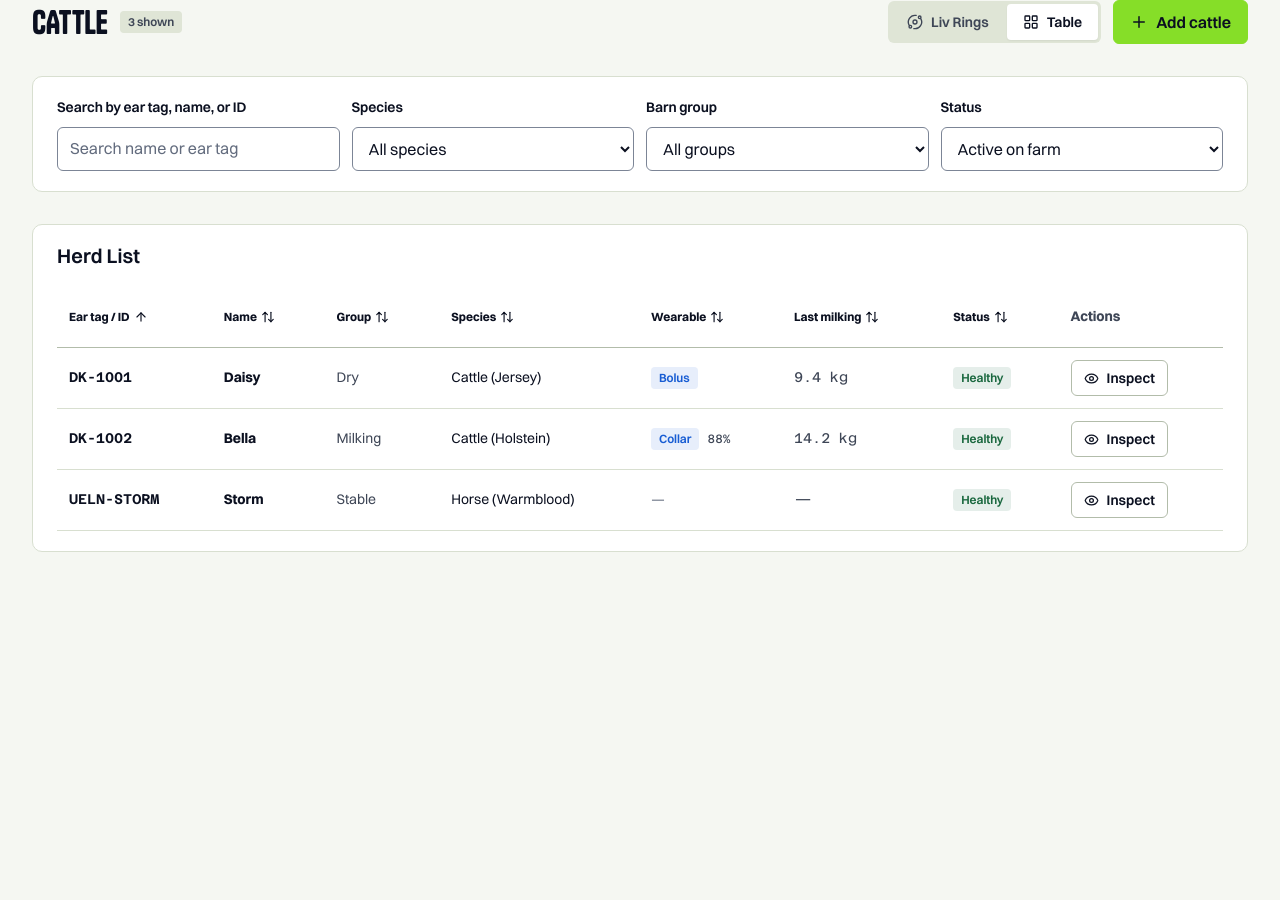
Test: Farm Data Screens: Herd register & Connections screen › sorts the herd register table, shows wearables read-only only when present, and drops the wearable column when none in the list have one
The width and height of the screenshot is (1280, 900).
Later steps or results of the test are not shown.
Expected: the button with test id "herd-sort-wearable" is shown, [643,299,732,335]
Click the button with test id "herd-sort-name". click: coordinates (249, 317)
box: [216,299,283,335]
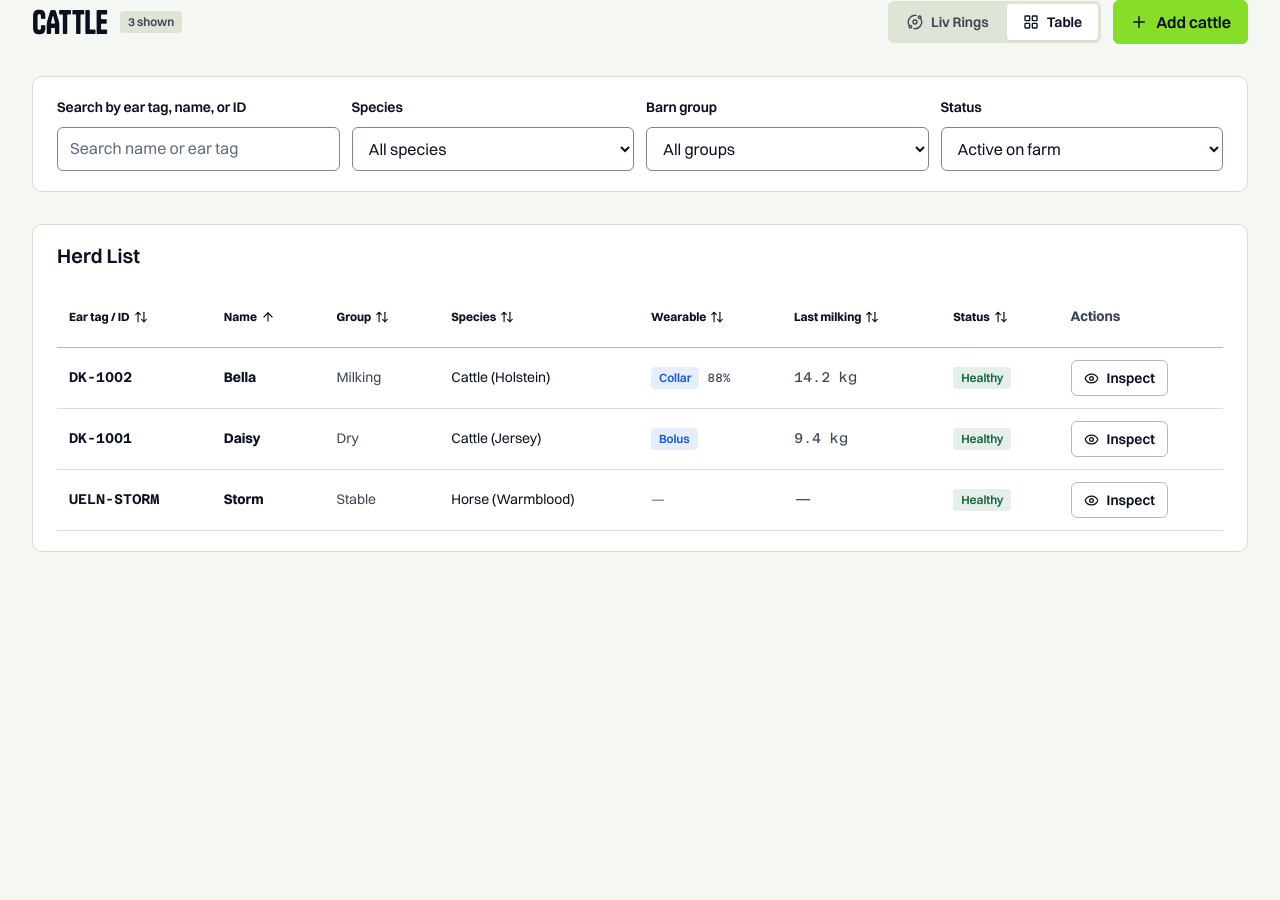
Expected: the row that starts with "DK-1002" shows "Bella", [224,368,256,386]
Expected: the row that starts with "DK-1001" shows "Daisy", [224,429,260,447]
Click the button with test id "herd-sort-name". click: coordinates (249, 317)
box: [216,299,283,335]
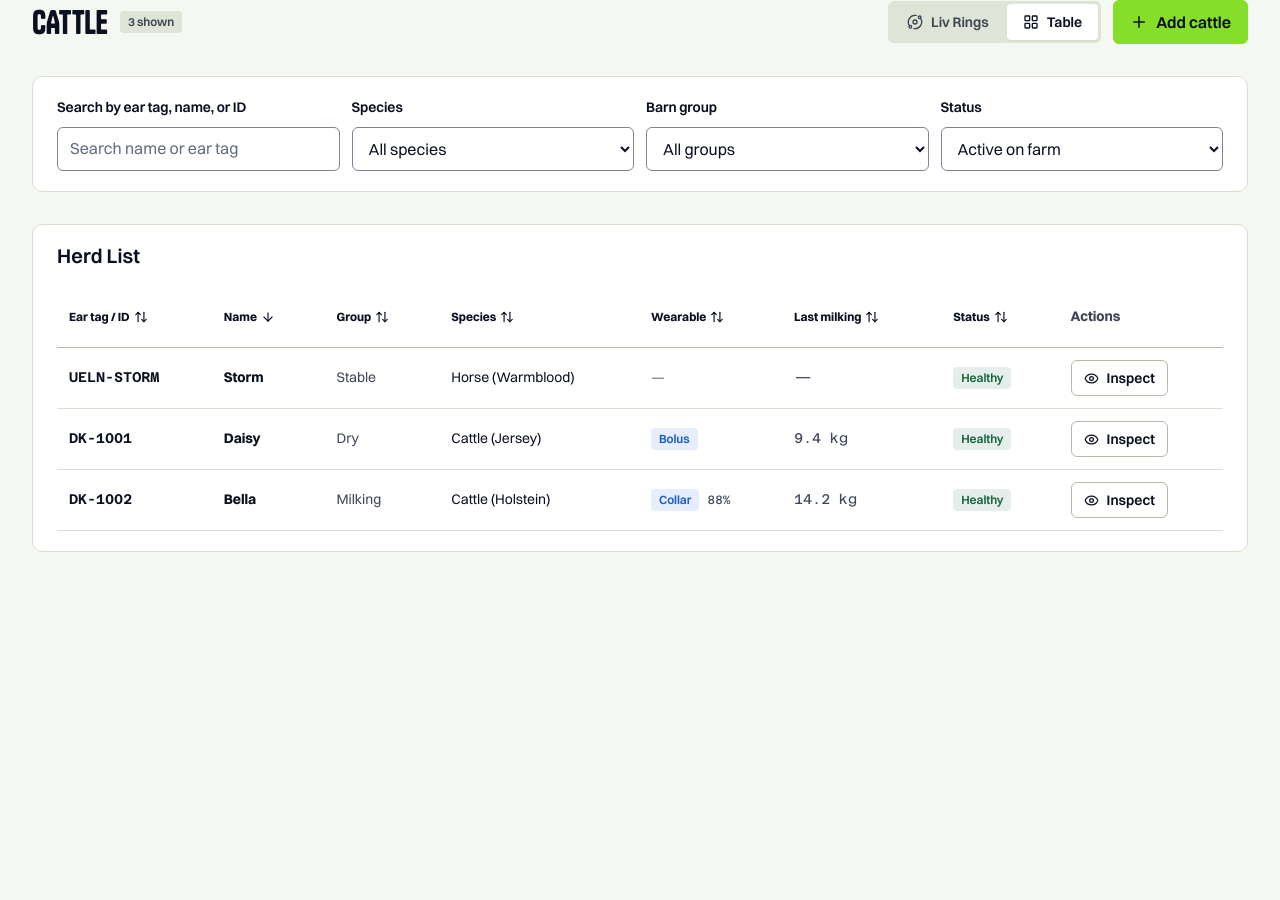
Expected: the row that starts with "UELN-STORM" is shown, [224,368,263,386]
Expected: the row that starts with "DK-1002" shows "Bella", [224,490,256,508]
Click the button with test id "herd-sort-lastMilking". click: coordinates (837, 317)
box: [786,299,888,335]
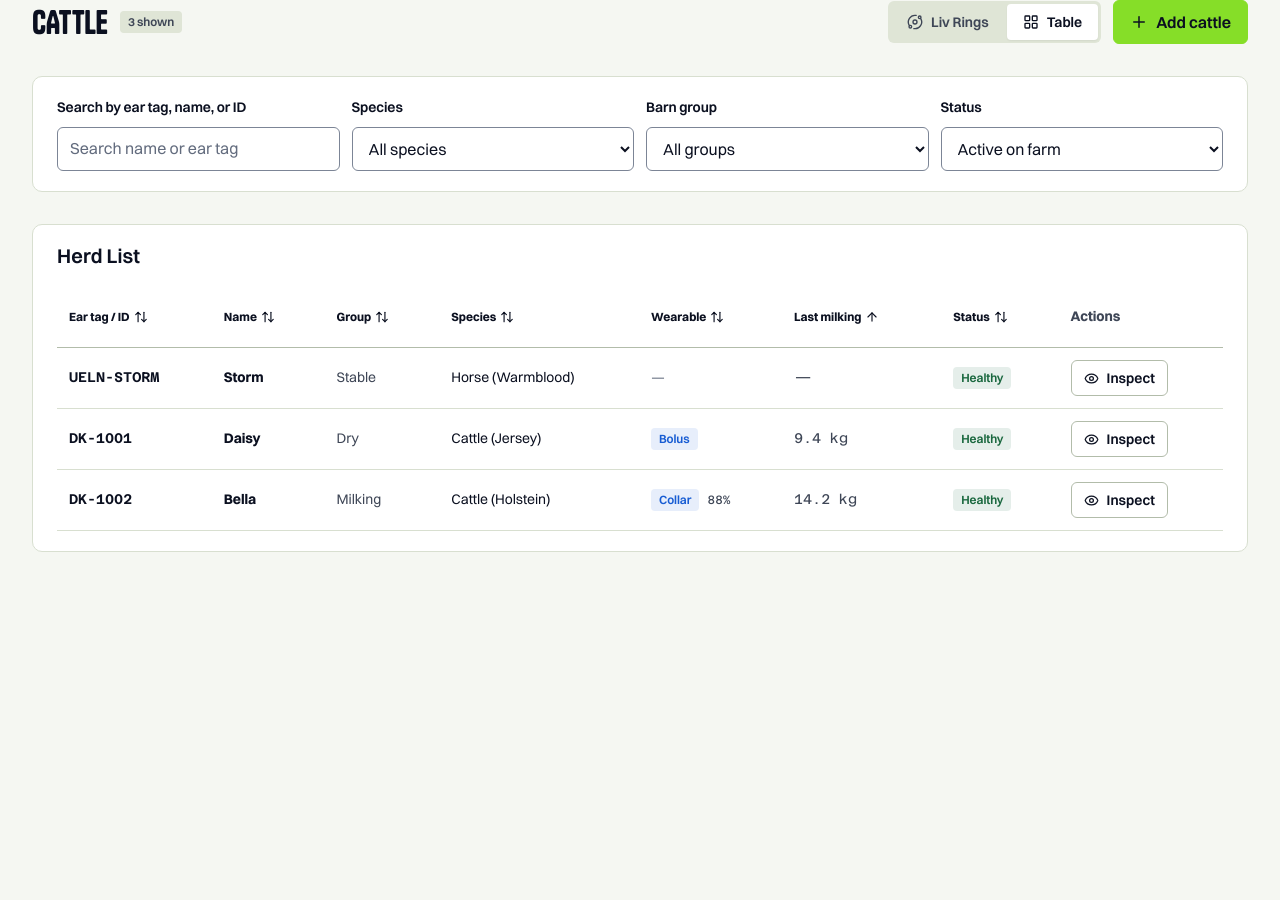
Click the button with test id "herd-sort-lastMilking". click: coordinates (837, 317)
box: [786,299,888,335]
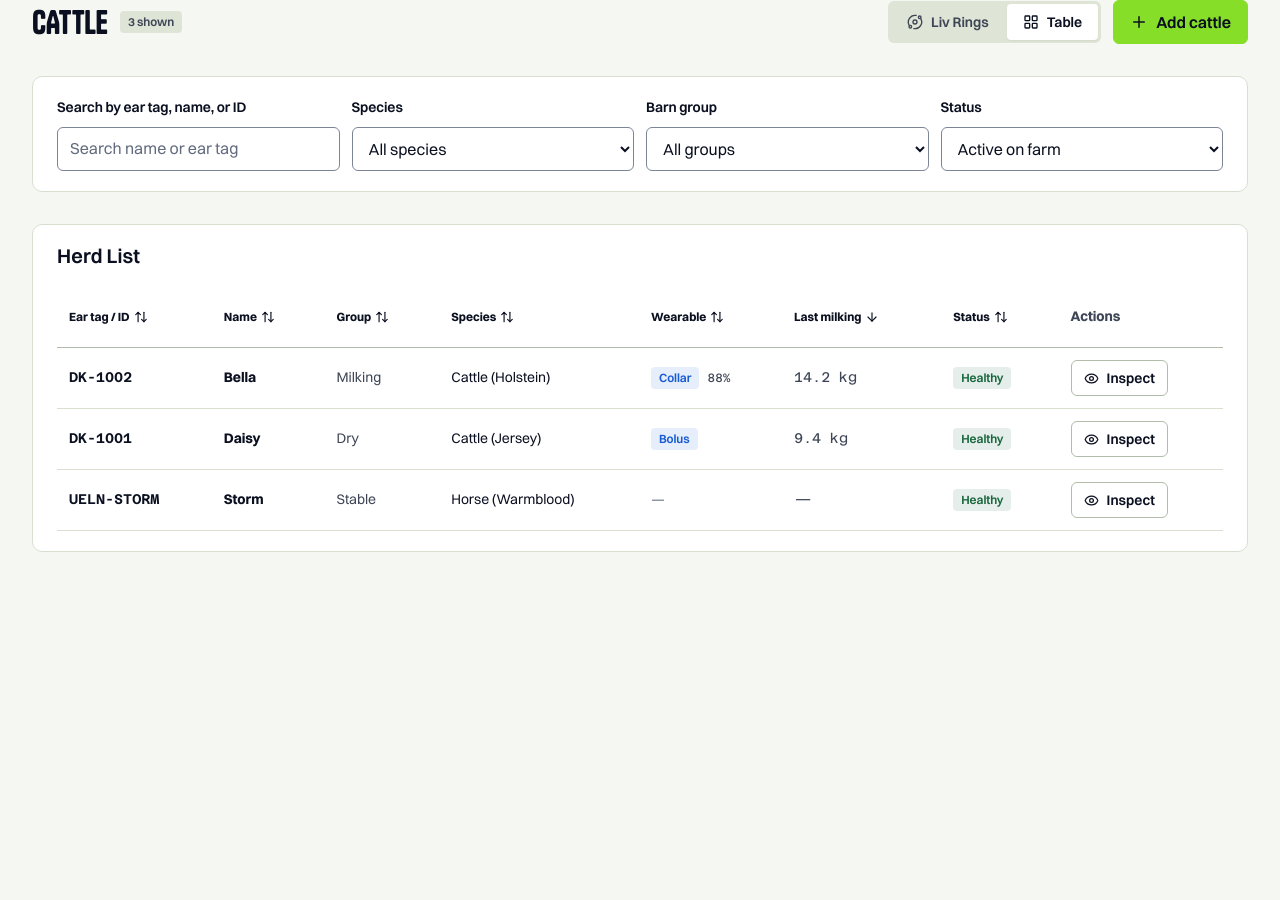
Expected: the row that starts with "DK-1002" shows "Bella", [224,368,256,386]
Expected: the row that starts with "DK-1002" shows "14.2 kg", [794,369,857,385]
Click the button with test id "herd-inspect-DK-1002". click: coordinates (1119, 378)
box: [1071,360,1168,396]
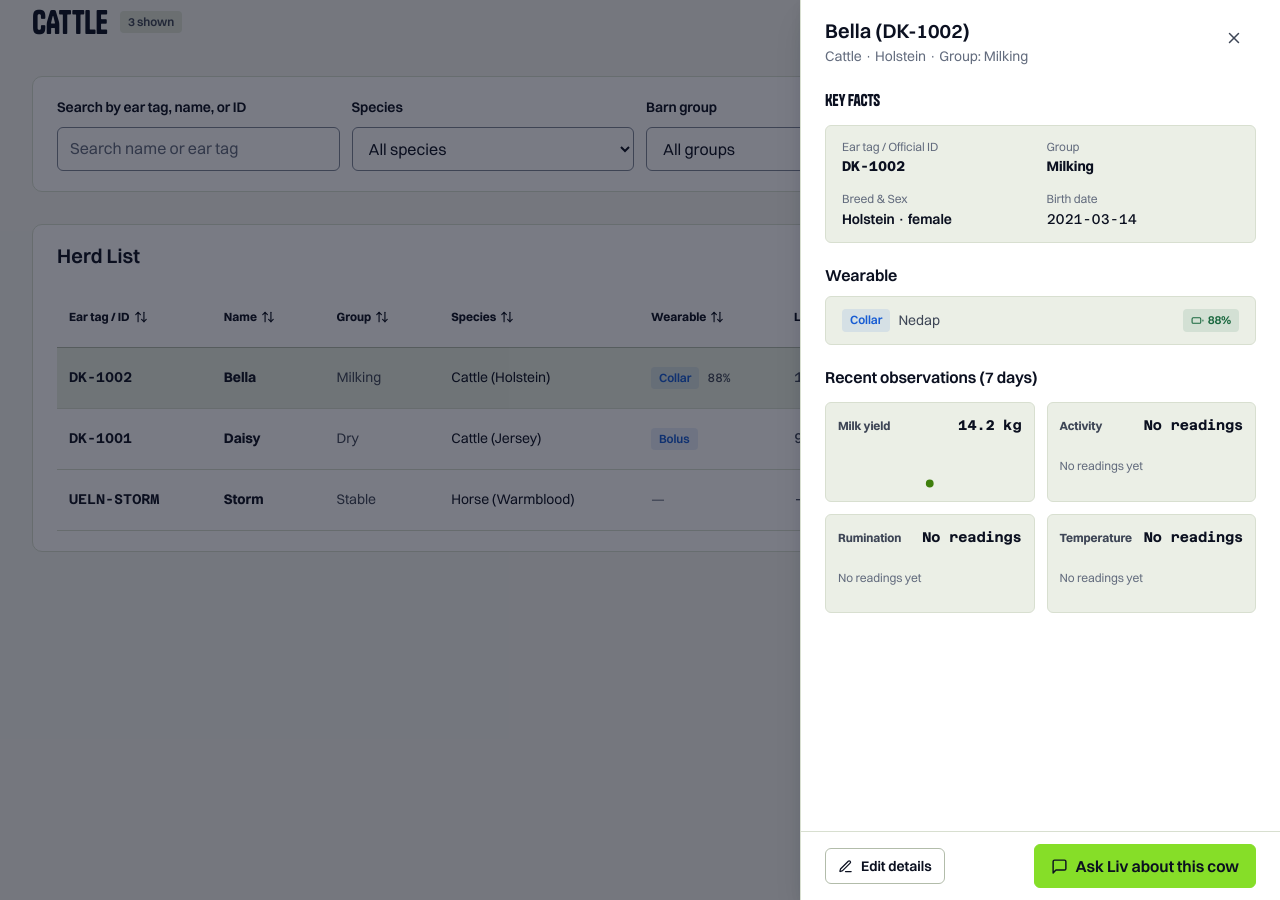
Expected: the element with test id "animal-drawer-wearable-card" shows "Collar", [850,312,882,327]
